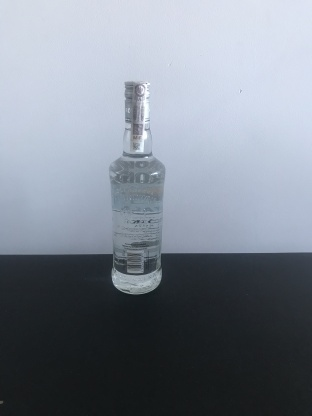nakretka: (121, 76, 153, 126)
